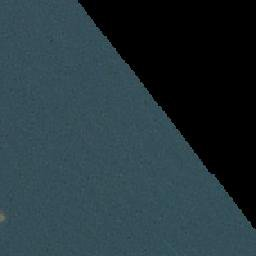debris: (1, 208, 9, 221)
